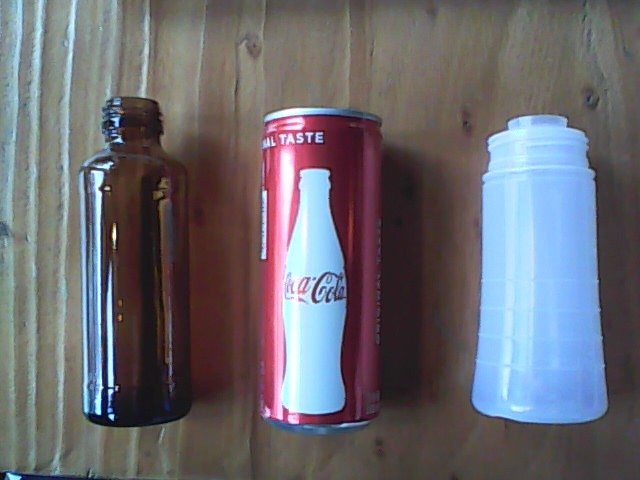Can: (252, 102, 392, 440)
Glass: (74, 88, 200, 432)
Plastic: (463, 107, 614, 431)
